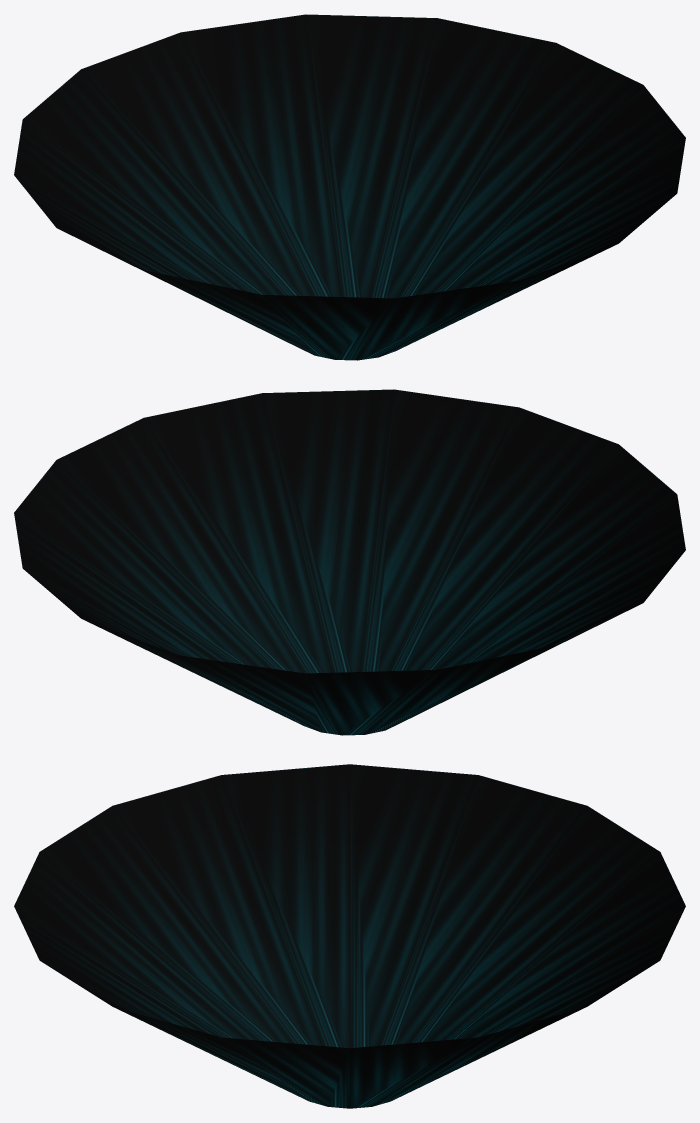
Rendered from fakeLight2.fbx.
3 renders of one model, top to bottom at view 1: azimuth 30°, elevation 25°; view 2: azimuth 150°, elevation 25°; view 3: azimuth 270°, elevation 25°, orthographic.
Parts seen in each view (by area): view 1: fakelight2; view 2: fakelight2; view 3: fakelight2.
Part boxes in pixels (left/top/right/bottom): fakelight2: left=14, top=14, right=685, bottom=360; fakelight2: left=14, top=389, right=685, bottom=735; fakelight2: left=14, top=764, right=685, bottom=1108.
Bounding box in the file's own units: 1.78 × 0.521 × 1.78.
